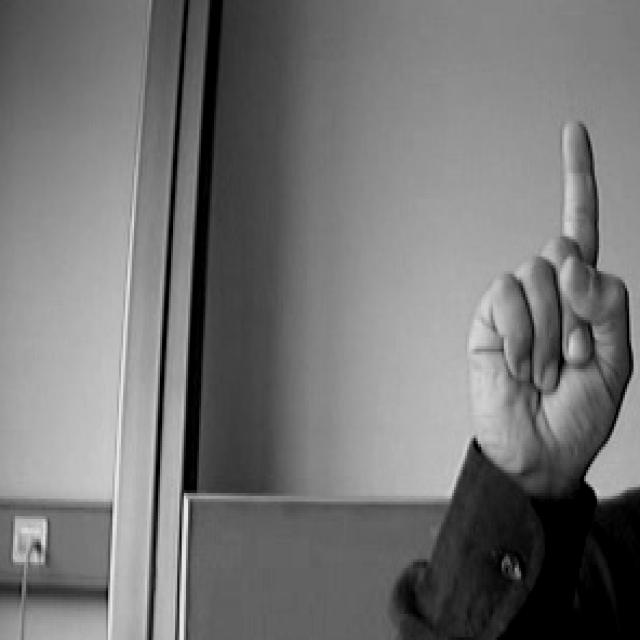D: (415, 87, 640, 539)
